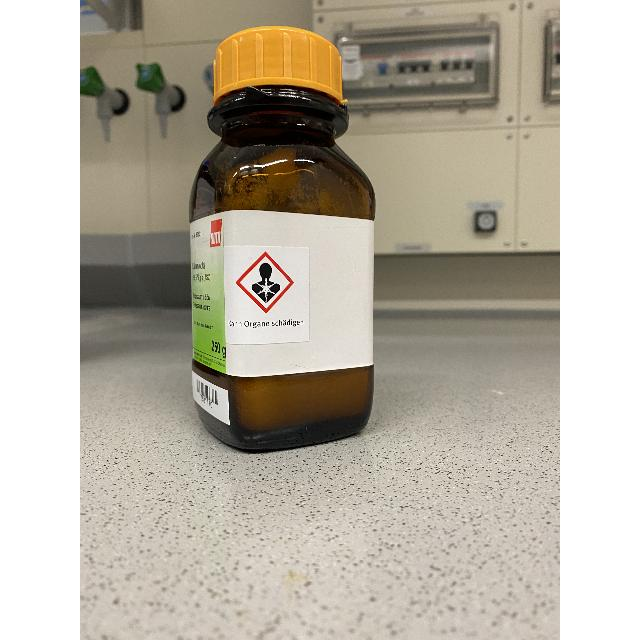serious health hazard: (252, 263, 280, 303)
